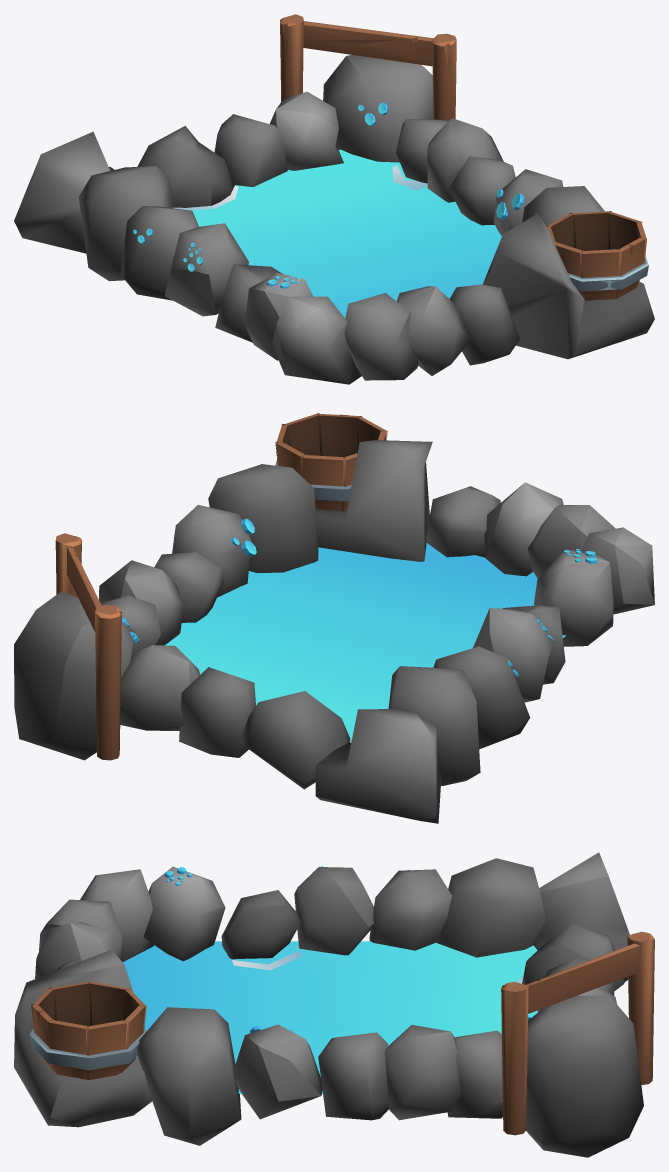
File: pond.glb
3 views of the same model, one above another, from view 1: azimuth 30°, elevation 25°; view 2: azimuth 150°, elevation 25°; view 3: azimuth 270°, elevation 25° (orthographic). The views are drawn at different scales.
Parts seen in each view (by area): view 1: pond; view 2: pond; view 3: pond.
Part boxes in pixels (box(x1,y1,x2,y2)): pond: box(14, 14, 654, 384); pond: box(14, 413, 654, 823); pond: box(14, 852, 654, 1157).
Bounding box in the file's own units: 3.19 × 1.24 × 4.05.
Materials: 1 (1 with a texture image).
